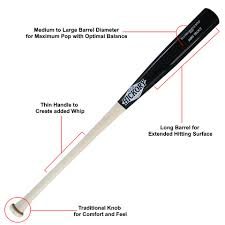baseball bat: (10, 6, 220, 218)
